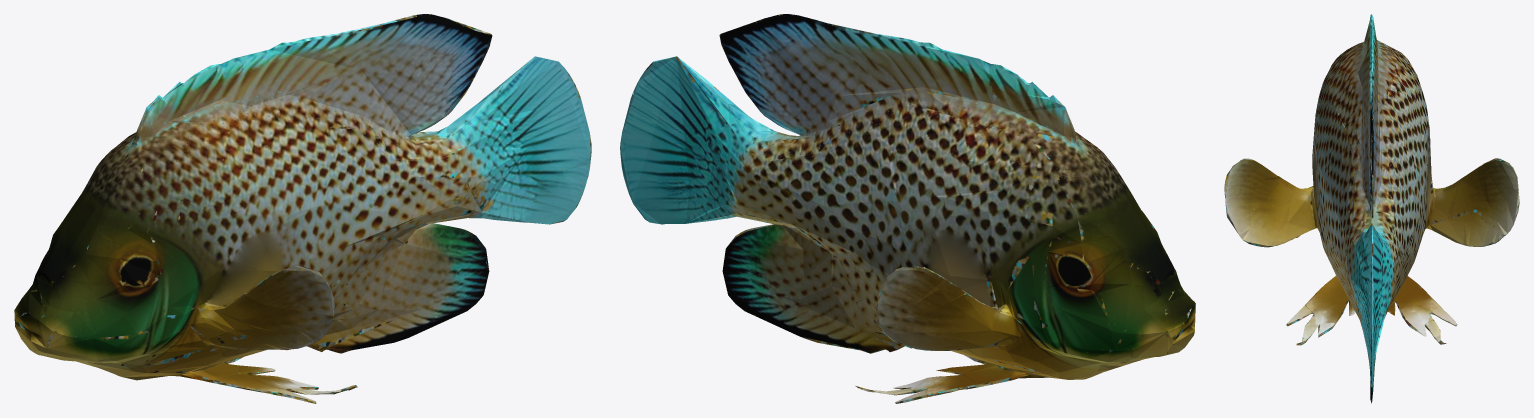
File: fish_0109_smpl23_resized.glb
The picture shows the model from 3 angles, left to right: view 1: azimuth 30°, elevation 25°; view 2: azimuth 150°, elevation 25°; view 3: azimuth 270°, elevation 25°; orthographic projection. The views are drawn at different scales.
Parts seen in each view (by area): view 1: world; view 2: world; view 3: world.
Boxes of the visible parts, x1,y1,x2,y2 form: world: [14, 14, 591, 403]; world: [620, 14, 1195, 403]; world: [1224, 14, 1519, 403].
Size of the model in its own units: 1.99 by 1.1 by 1.02.
Materials: 1 (1 with a texture image).
